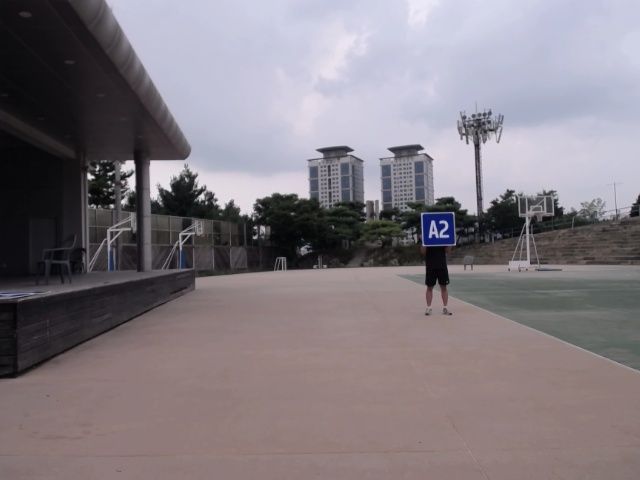delivery_a2: (422, 213, 455, 245)
